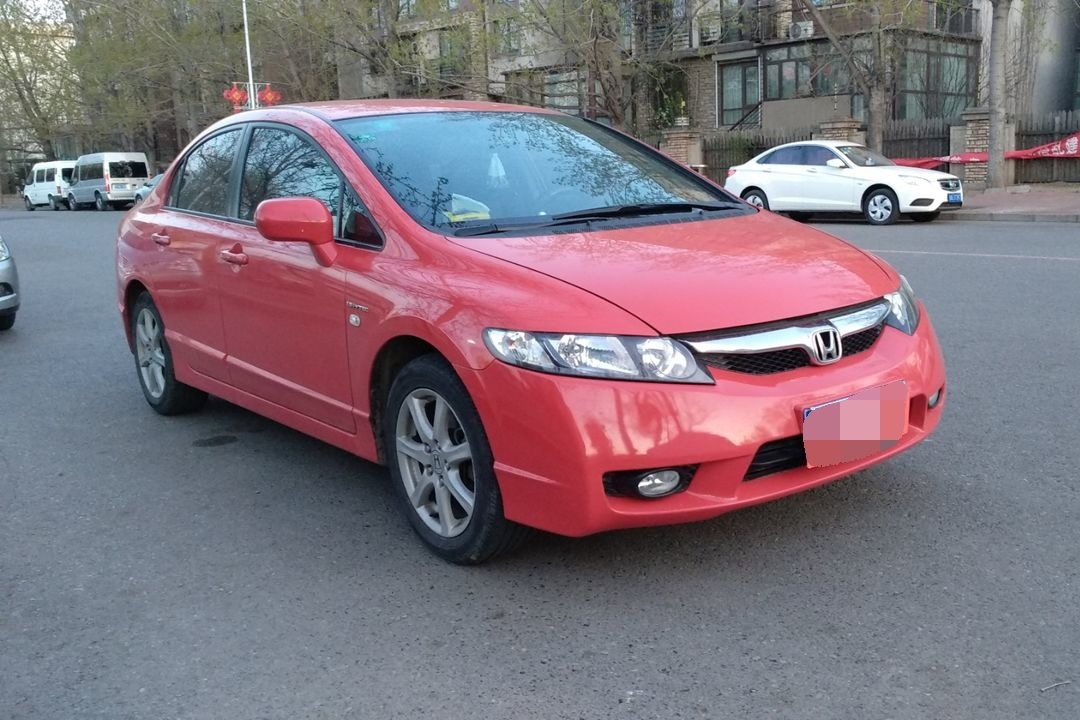family sedan: (100, 75, 963, 580)
